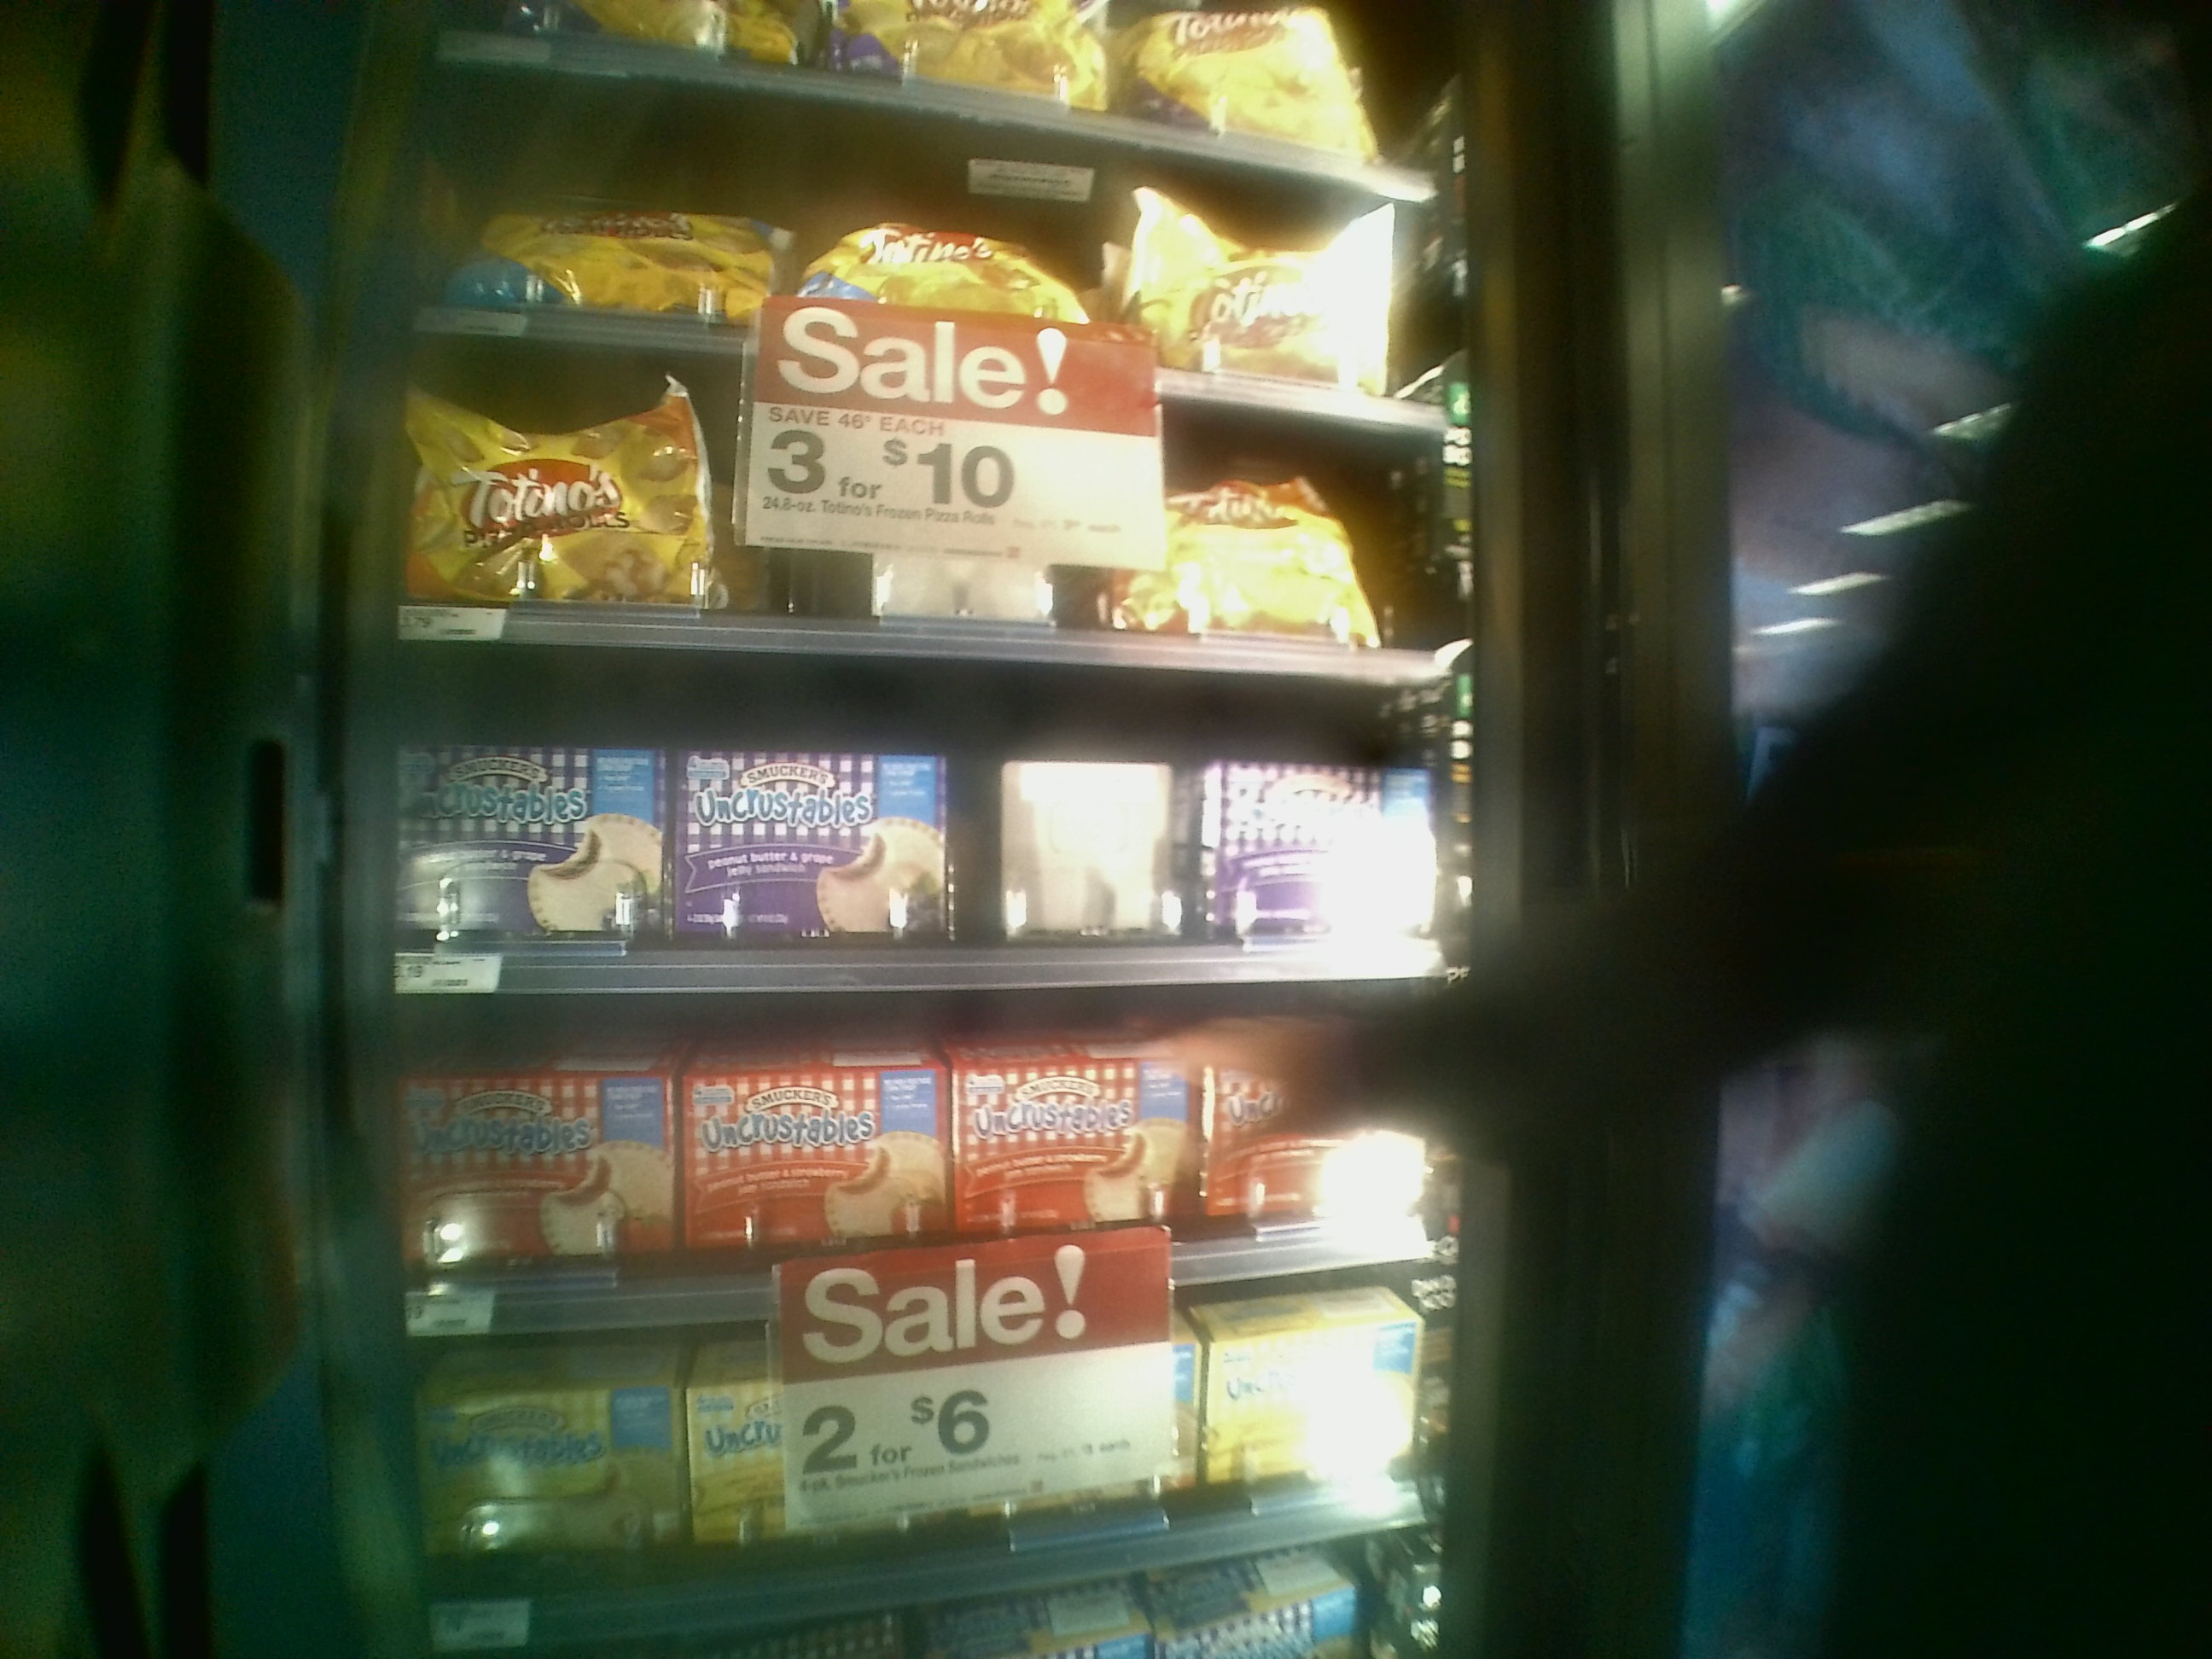shelf: (369, 615, 1454, 967), (371, 338, 1437, 673), (361, 983, 1433, 1249), (374, 1281, 1416, 1518)
